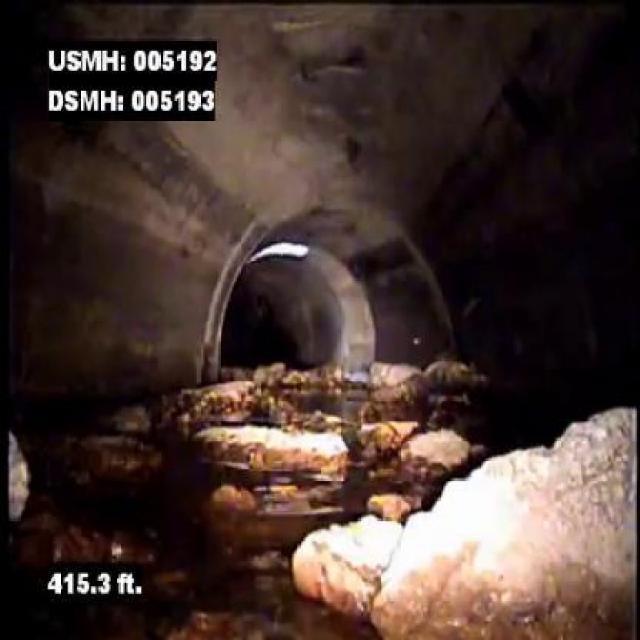Debris: (169, 403, 425, 514)
Obstacle: (295, 386, 640, 639)
